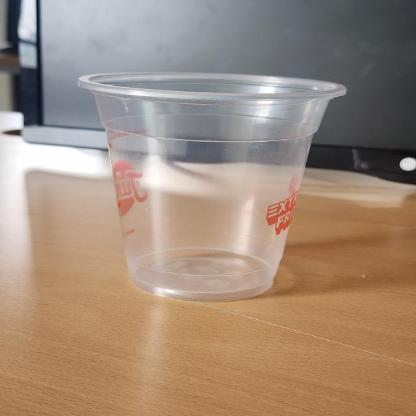Plastic Cup: (78, 69, 350, 301)
